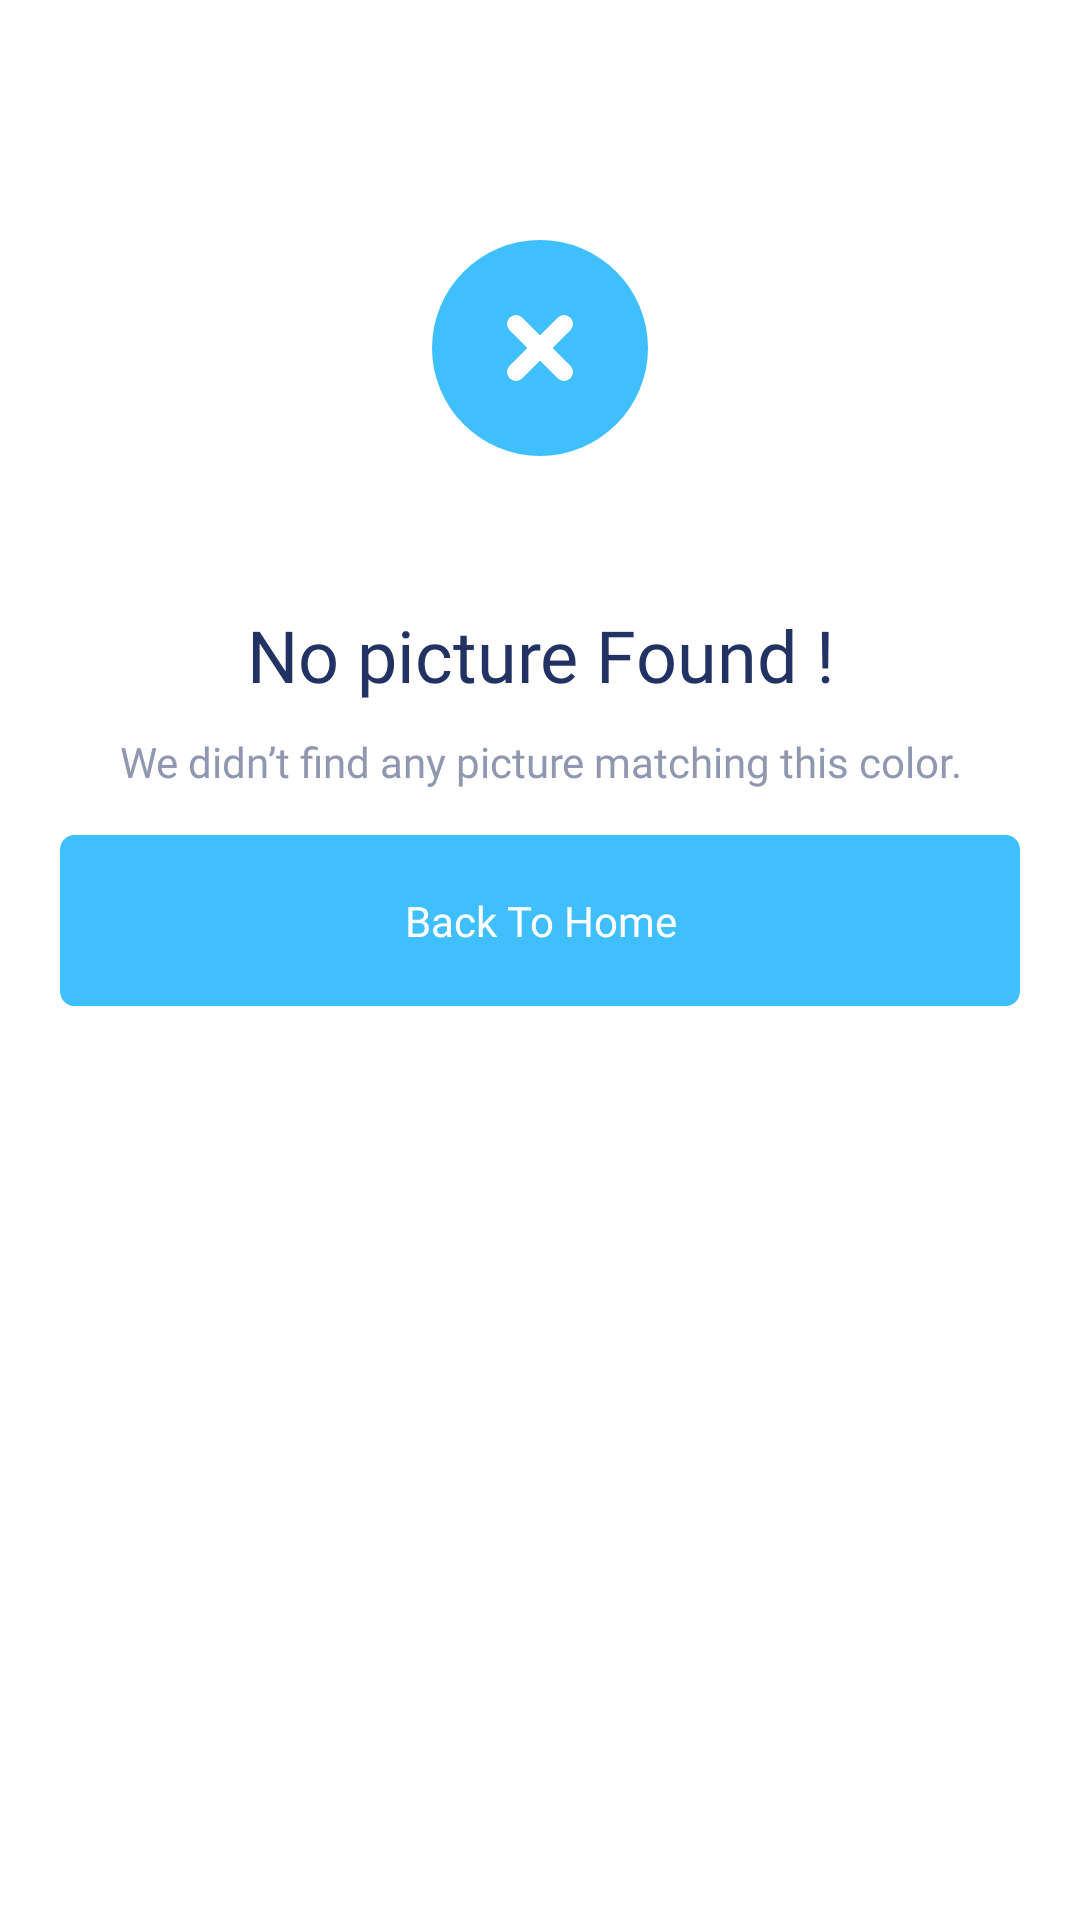

Screen size 1080px×1920px. Icon name, then its box in pixels as box=[x1, y1, x2, y2]:
not found: box=[432, 240, 648, 456]
